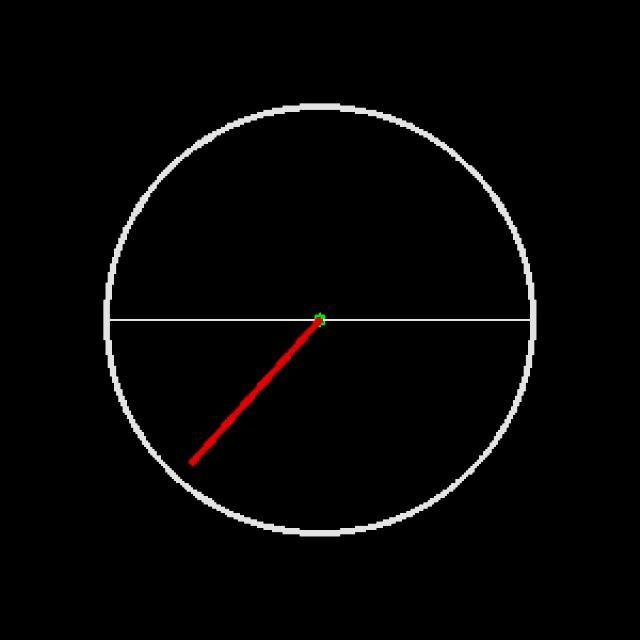Needle_Tip: (164, 432, 221, 482)
Needle_base: (300, 273, 340, 348)
